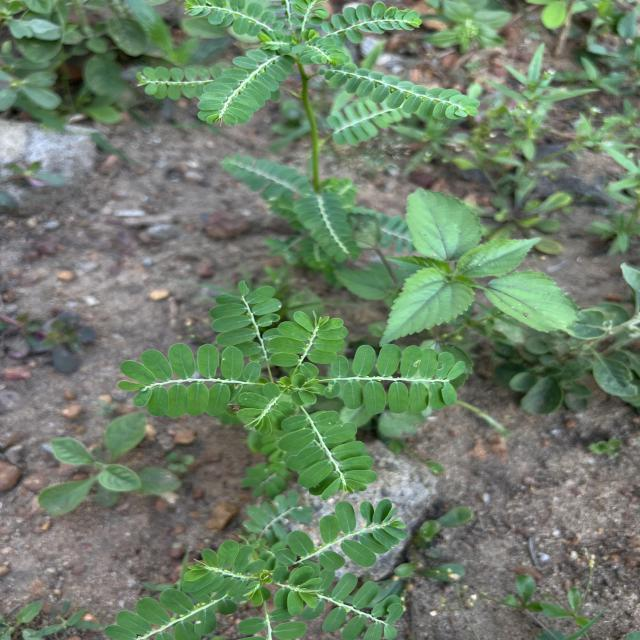Phyllanthus niruri: (114, 336, 254, 424), (319, 59, 485, 128), (333, 340, 474, 420), (272, 407, 382, 504), (189, 43, 292, 130), (260, 306, 350, 380)
